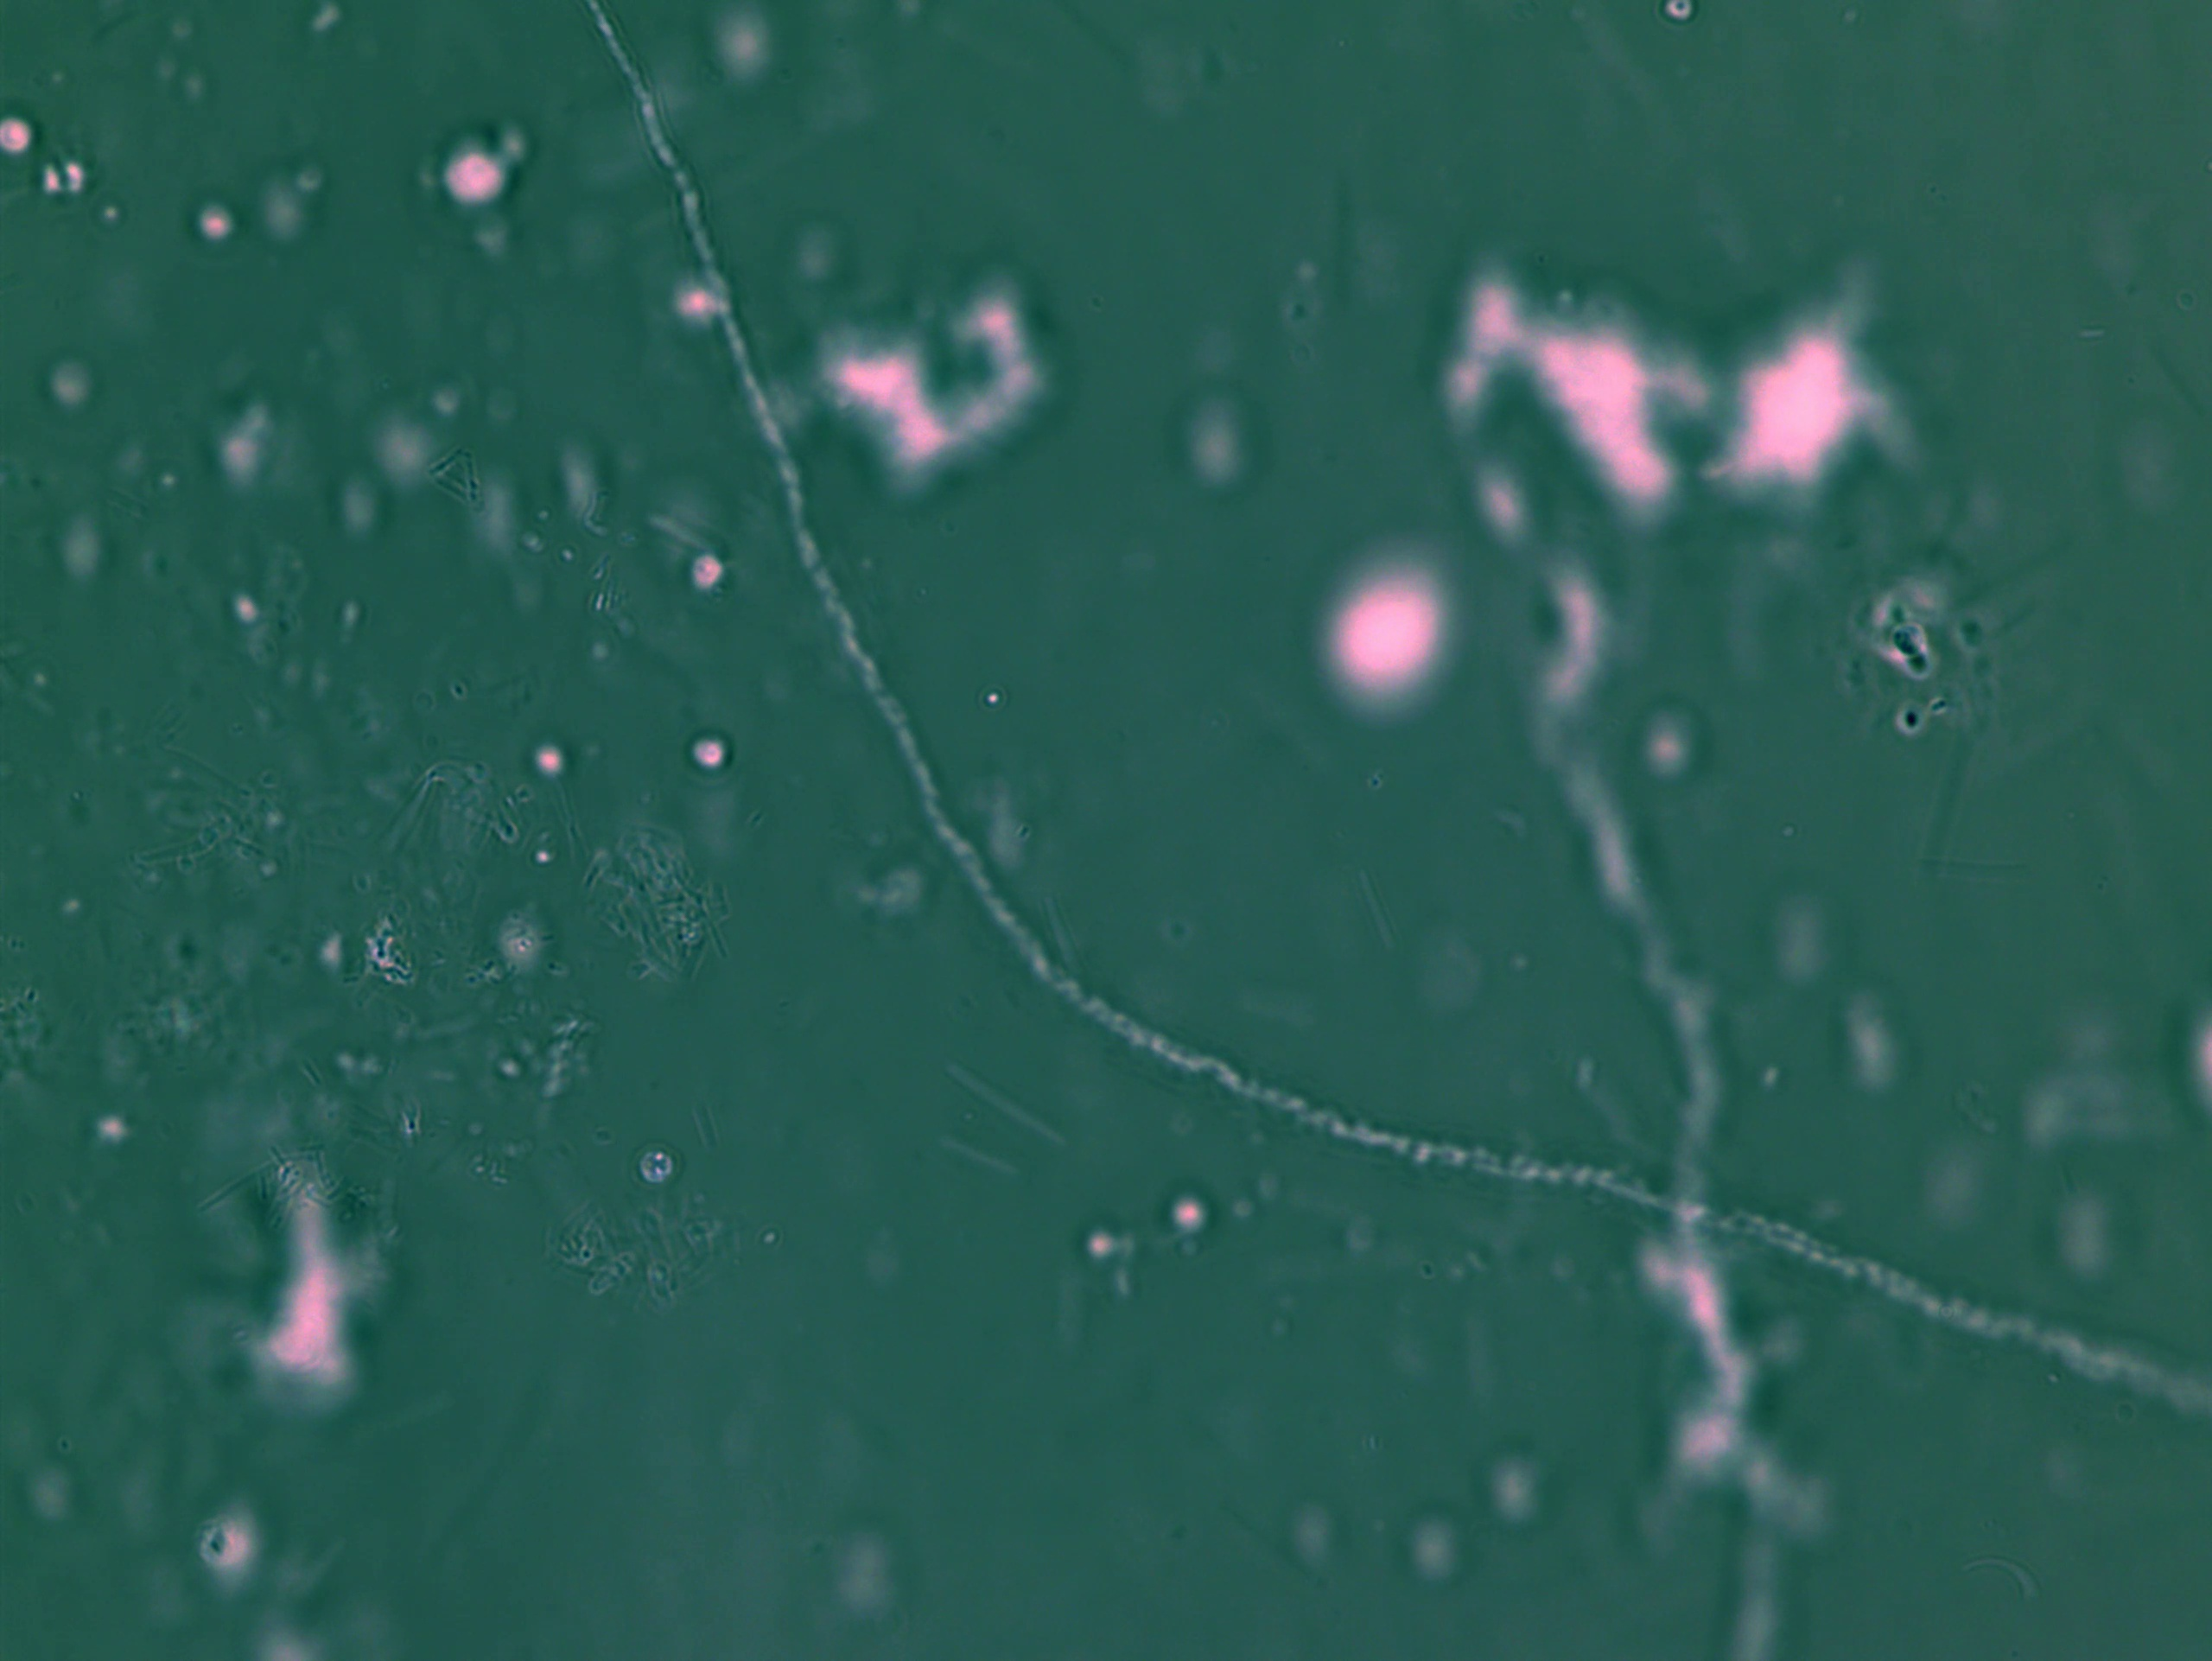depth:120: (1272, 504, 1488, 745)
